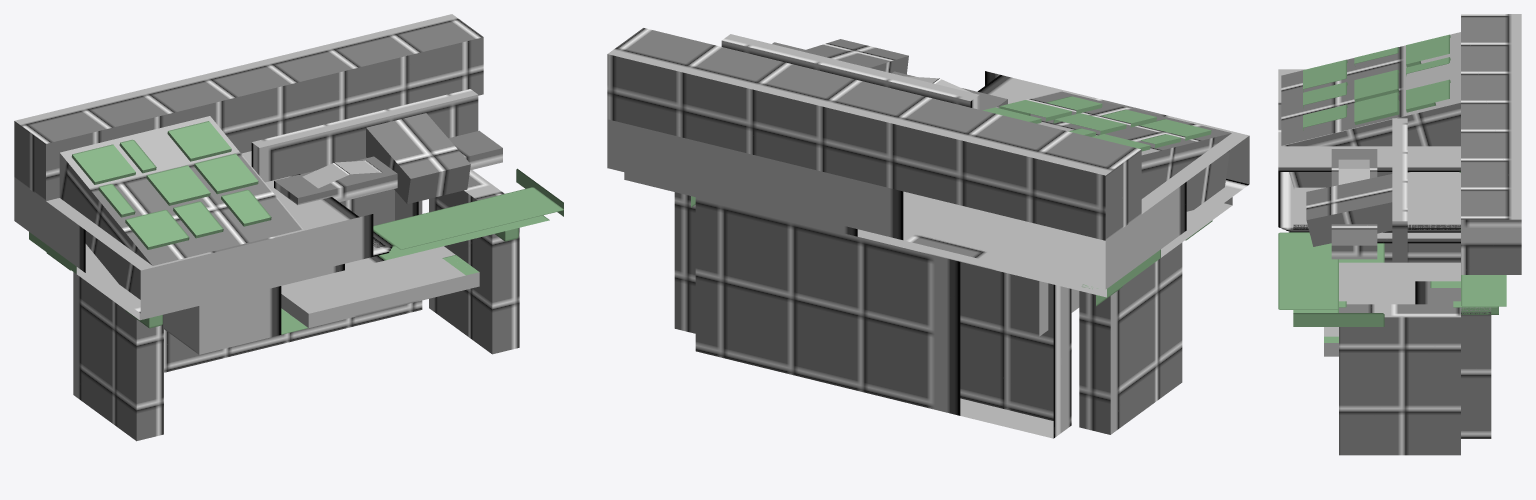
The model's file is keypunch.obj.
3 renders of one model, left to right at view 1: azimuth 30°, elevation 25°; view 2: azimuth 150°, elevation 25°; view 3: azimuth 270°, elevation 25°, orthographic. The views are drawn at different scales.
Parts seen in each view (by area): view 1: DeskSideTop, Desk, KeyboardPlate, DeskSideLeft, DrawerRight1, DeskSideRight, Rail1, Keyboard, DrawerLeft, Desk2, DeskSideBack, Rail3 (+11 smaller); view 2: DeskSideBack, DeskSideTop, Desk, DeskSideLeft, Desk2, KeyboardPlate, Rail1, DeskSideRight, Keyboard, KeyboardInput6, KeyboardInput5, KeyboardInput7 (+1 smaller); view 3: DeskSideRight, DeskSideTop, Desk, KeyboardPlate, Desk2, DrawerRight1, Keyboard, DeskSideBack, Rail3, Rail1, DeskSideLeft, DrawerRight2 (+12 smaller).
Boxes of the visible parts, <box> form: DeskSideTop: <box>14,14,483,200</box>; Desk: <box>14,151,563,313</box>; KeyboardPlate: <box>59,116,302,299</box>; DeskSideLeft: <box>73,272,163,441</box>; DrawerRight1: <box>281,246,479,327</box>; DeskSideRight: <box>429,170,519,354</box>; Rail1: <box>251,89,478,182</box>; Keyboard: <box>366,113,470,204</box>; DrawerLeft: <box>164,286,308,354</box>; Desk2: <box>29,168,563,320</box>; DeskSideBack: <box>164,189,422,372</box>; Rail3: <box>274,130,502,204</box>; DeskSideBack: <box>695,197,1071,438</box>; DeskSideTop: <box>607,28,1141,240</box>; Desk: <box>607,71,1249,289</box>; DeskSideLeft: <box>1079,242,1182,434</box>; Desk2: <box>624,172,1232,297</box>; KeyboardPlate: <box>996,91,1231,211</box>; Rail1: <box>721,34,979,109</box>; DeskSideRight: <box>674,192,695,333</box>; Keyboard: <box>802,39,908,74</box>; KeyboardInput6: <box>999,100,1071,121</box>; KeyboardInput5: <box>1053,113,1126,134</box>; KeyboardInput7: <box>1140,119,1211,140</box>; DeskSideRight: <box>1339,304,1460,455</box>; DeskSideTop: <box>1461,14,1521,274</box>; Desk: <box>1278,69,1460,309</box>; KeyboardPlate: <box>1281,32,1460,187</box>; Desk2: <box>1293,172,1506,326</box>; DrawerRight1: <box>1324,262,1460,356</box>; Keyboard: <box>1306,174,1392,246</box>; DeskSideBack: <box>1461,307,1491,438</box>; Rail3: <box>1331,149,1377,259</box>; Rail1: <box>1392,118,1407,262</box>; DeskSideLeft: <box>1384,243,1460,262</box>; DrawerRight2: <box>1324,281,1460,342</box>.
Size of the model in its own units: 2 by 1.25 by 1.
